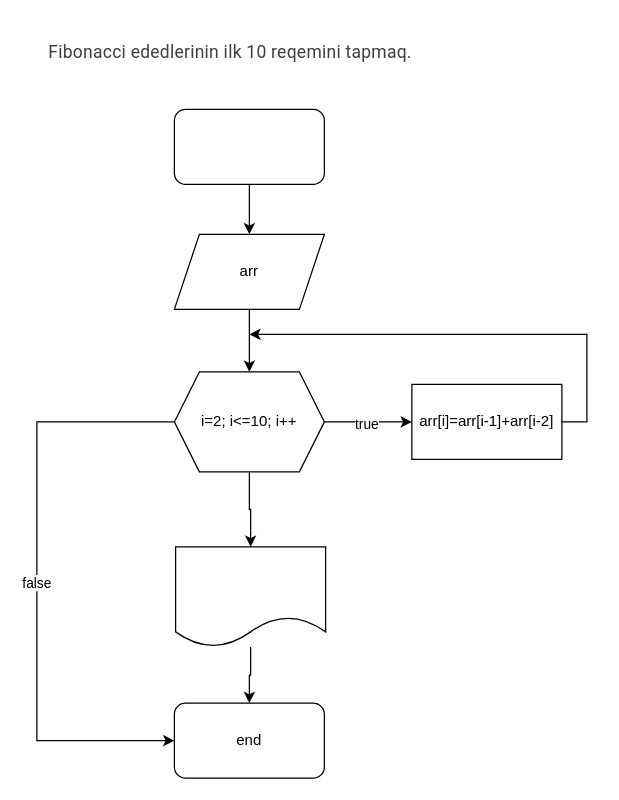
This 619x800 diagram has some shape labels left out. Here are the shapes that lost their labels. From the top down, the centre of each, then its label:
At (x=248, y=146): "start".
At (x=250, y=596): "arr[ ]".
